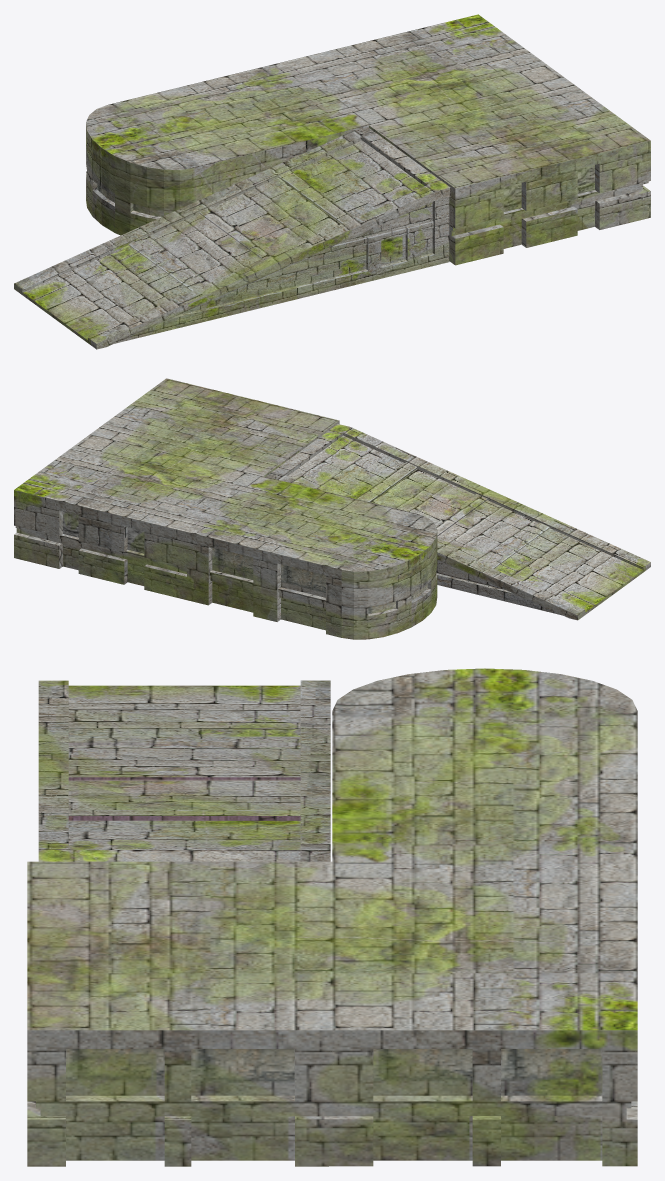
3 views of the same model, one above another, from view 1: azimuth 30°, elevation 25°; view 2: azimuth 150°, elevation 25°; view 3: azimuth 270°, elevation 25° (orthographic). The views are drawn at different scales.
Bounding box in the file's own units: 37.47 × 5 × 20.32.
Materials: 2 (2 with a texture image).
